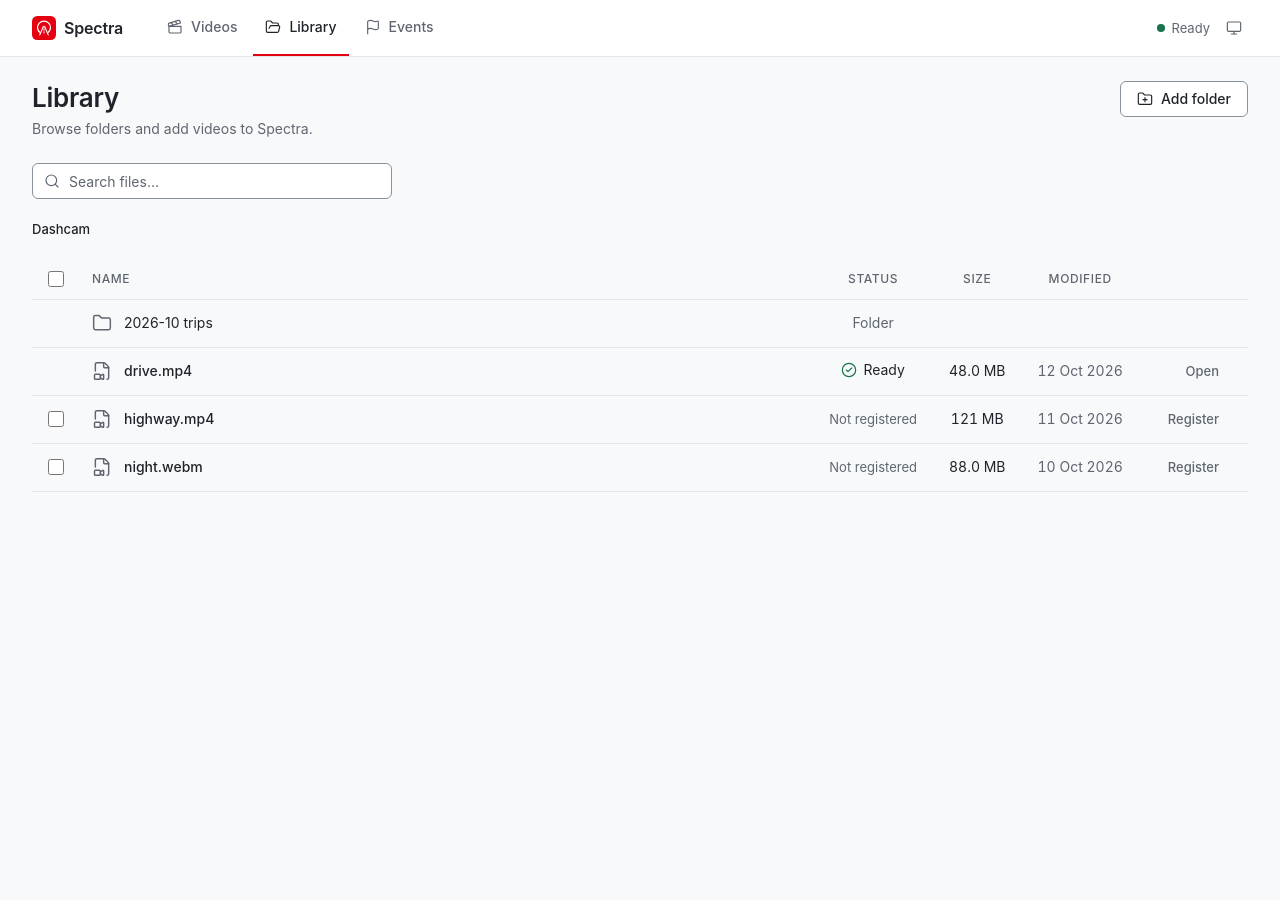
Test: library browsing › registers a selection of videos
Click the checkbox named "Select highway.mp4" next to "highway.mp4": (56, 419) [48,411,64,427]
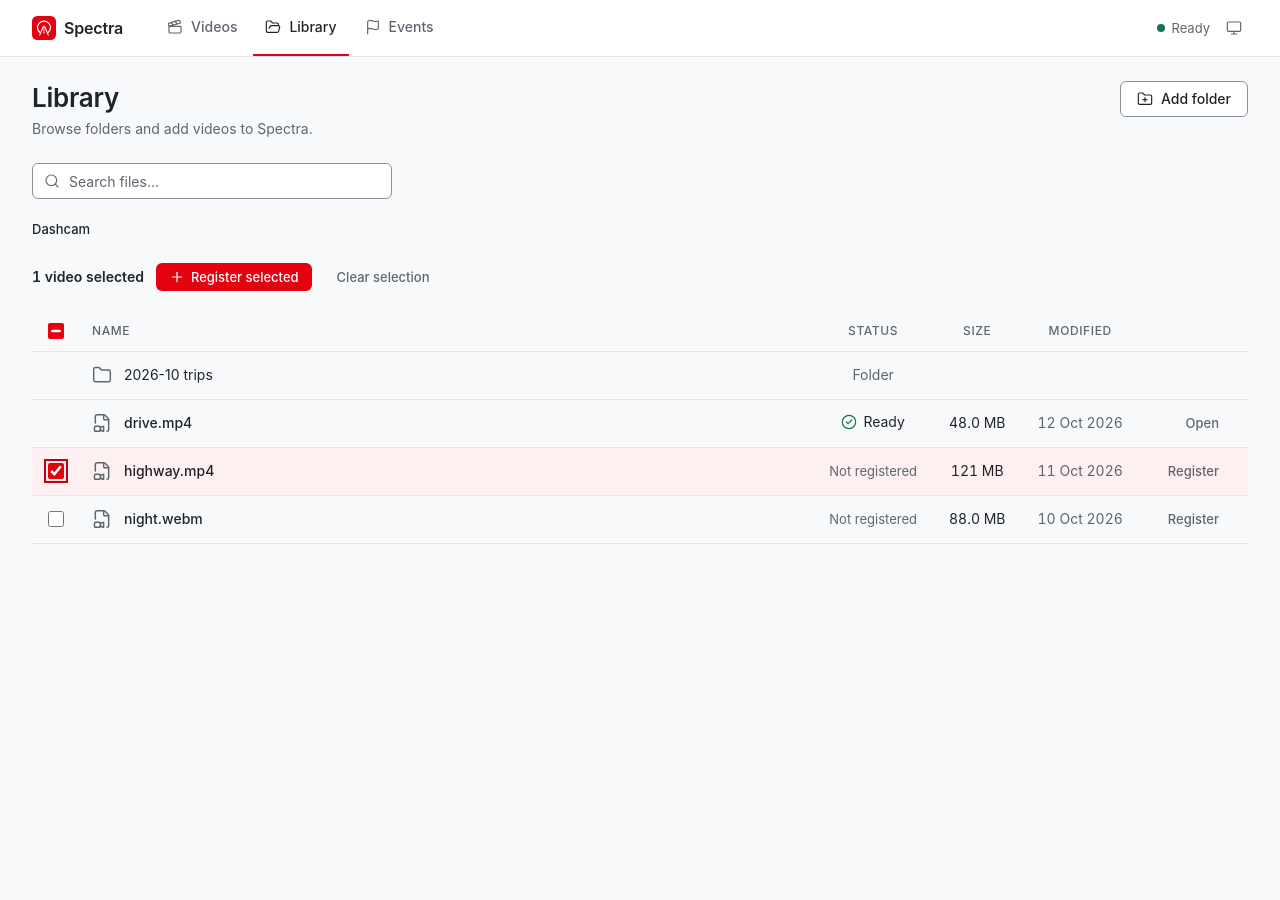
Click the checkbox named "Select all unregistered videos" next to "Name": (56, 331) [48,323,64,339]
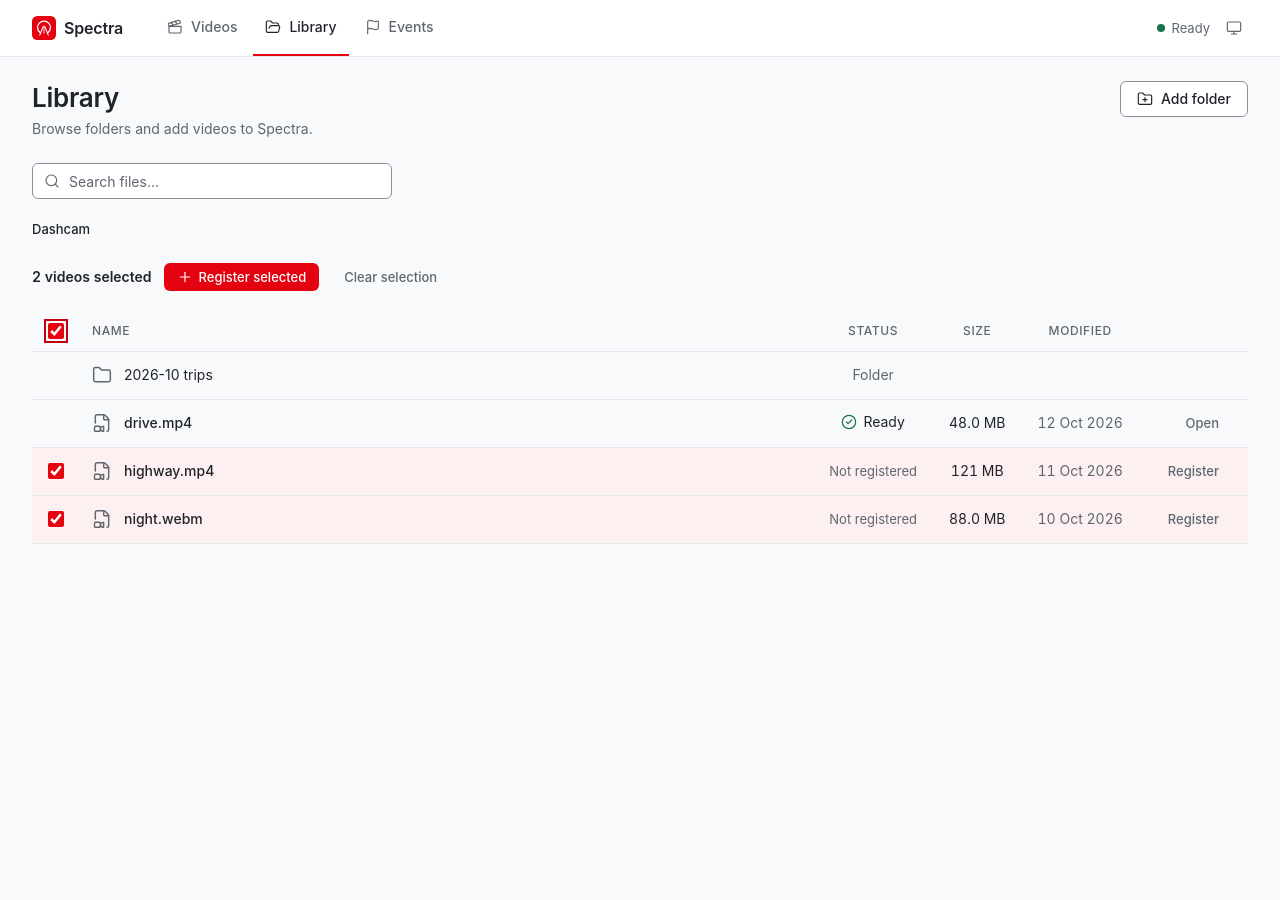
Expected: the text "2 videos selected" is shown, [32,267,152,287]
Click the button "Register selected": (241, 277) [164,263,319,291]
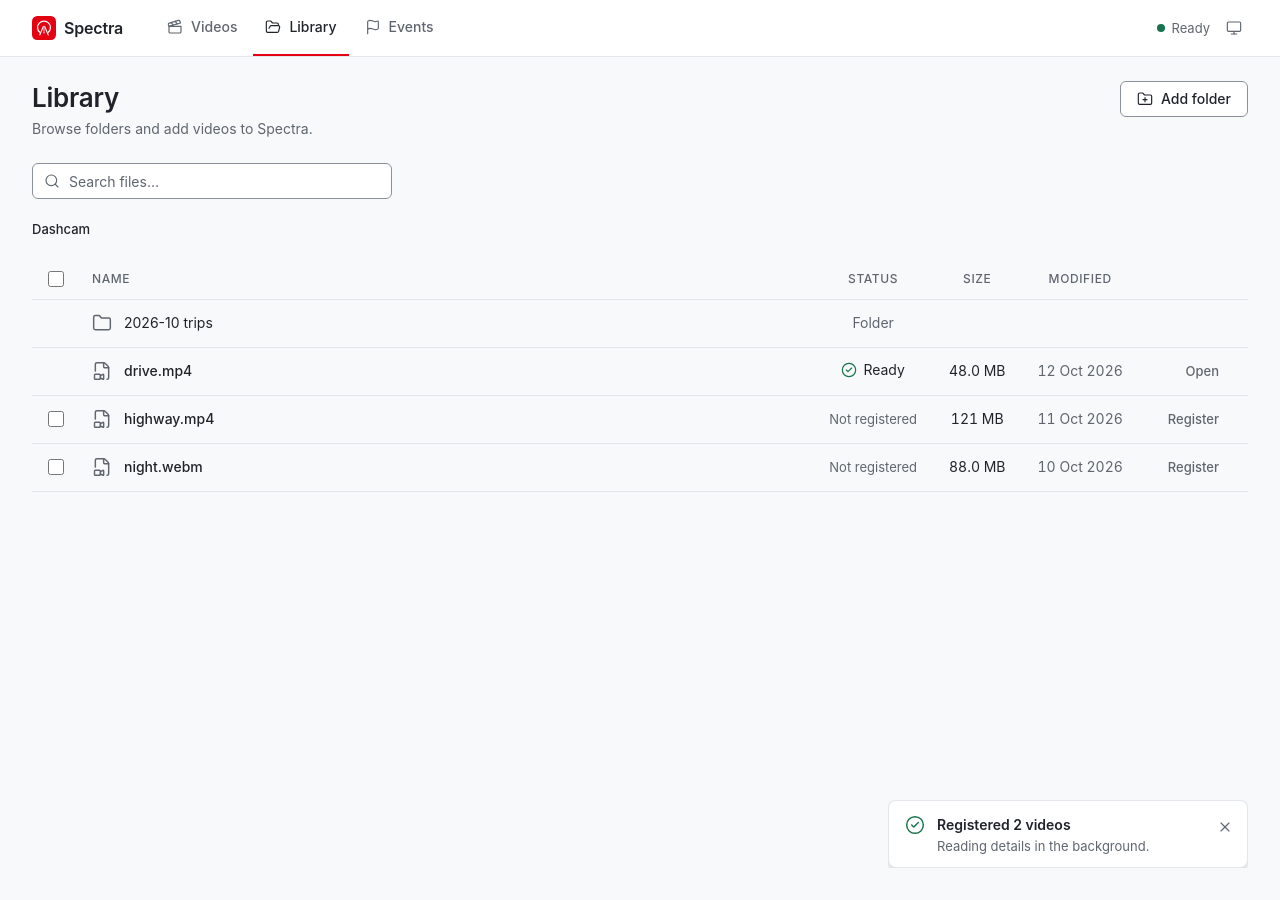
Expected: the text "Registered 2 videos" is shown, [937,816,1071,833]
Expected: the text "2 videos selected" is gone
